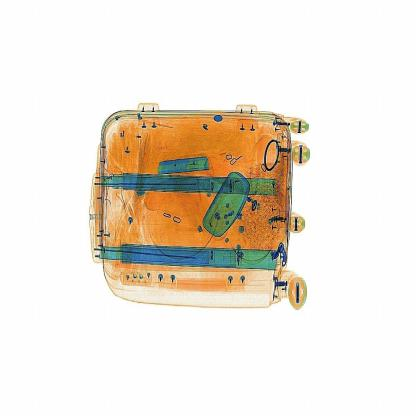pliers: (152, 149, 214, 177)
